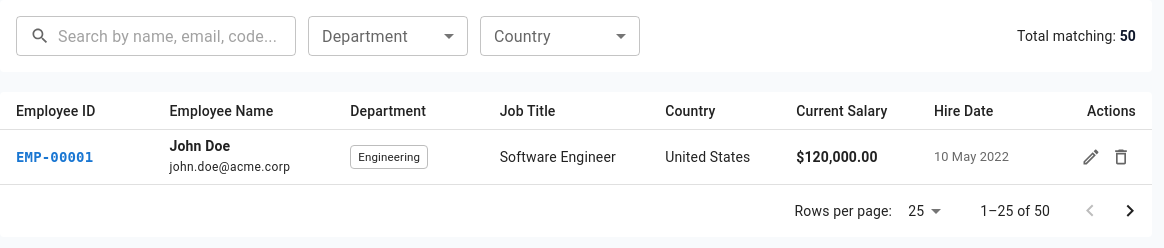
Test: Page Views › EmployeeDirectory › changes to page 2 when pagination next button is clicked
Expected: the text "EMP-00001" is shown, left=0, top=130, right=154, bottom=185
Click the button named "next page" at (1130, 211), box left=1110, top=191, right=1150, bottom=231
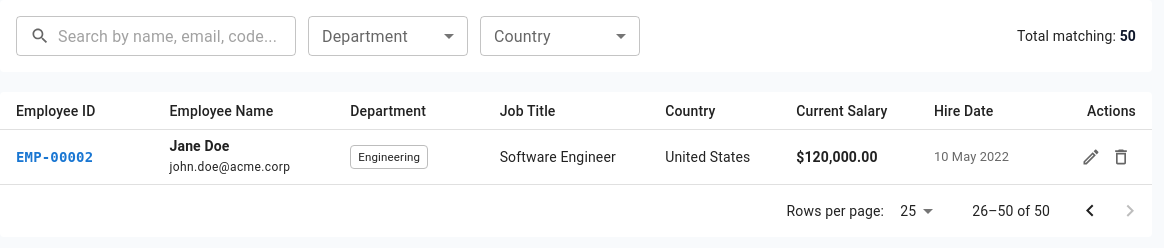
Expected: the text "EMP-00002" is shown, left=0, top=130, right=154, bottom=185
